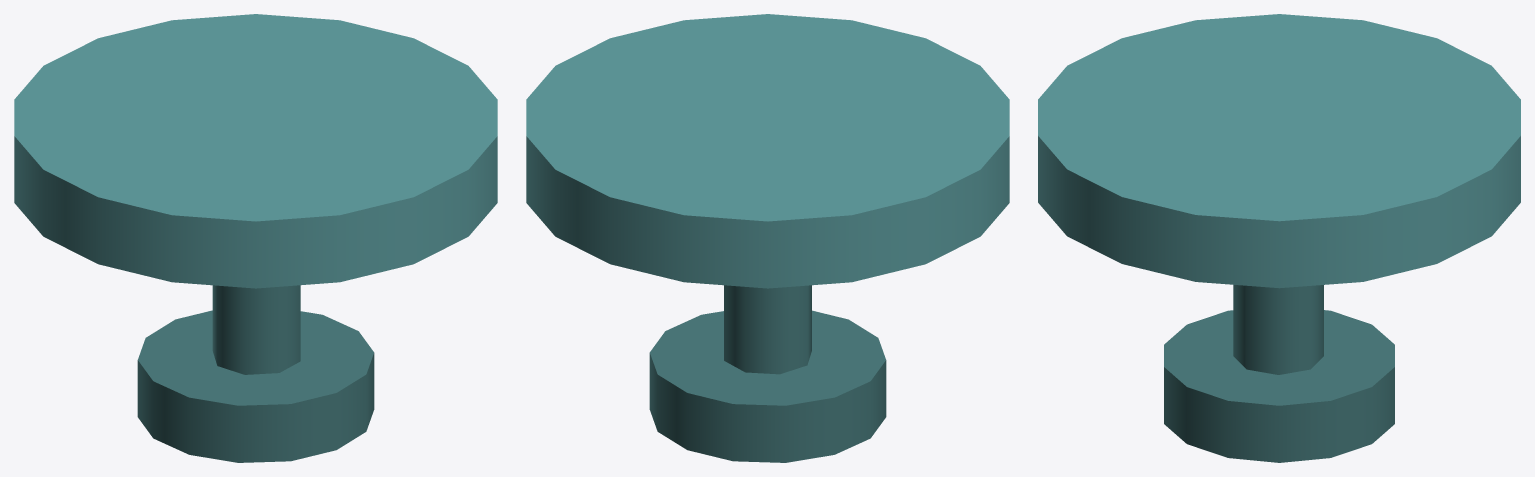
The model's file is table_08.fbx.
The picture shows the model from 3 angles, left to right: view 1: azimuth 30°, elevation 25°; view 2: azimuth 150°, elevation 25°; view 3: azimuth 270°, elevation 25°; orthographic projection.
Parts seen in each view (by area): view 1: table_08; view 2: table_08; view 3: table_08.
Boxes of the visible parts, bbox=[...] form: table_08: bbox=[14, 14, 497, 462]; table_08: bbox=[526, 14, 1009, 462]; table_08: bbox=[1038, 14, 1520, 462].
Size of the model in its own units: 95.39 by 63.38 by 93.94.
